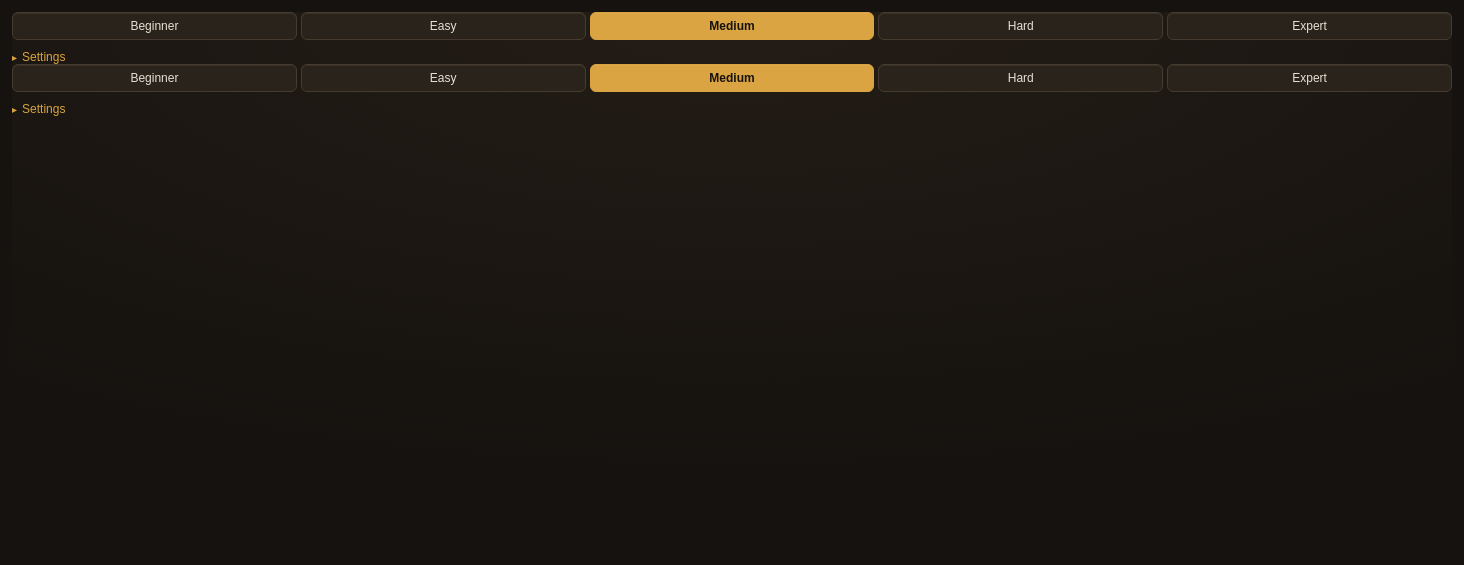
Test: DifficultyControl › scopes the labels to one instance, so two panels cannot cross-wire
Click the 1st button "▸ Settings" at (39, 57), box [12, 50, 65, 64]
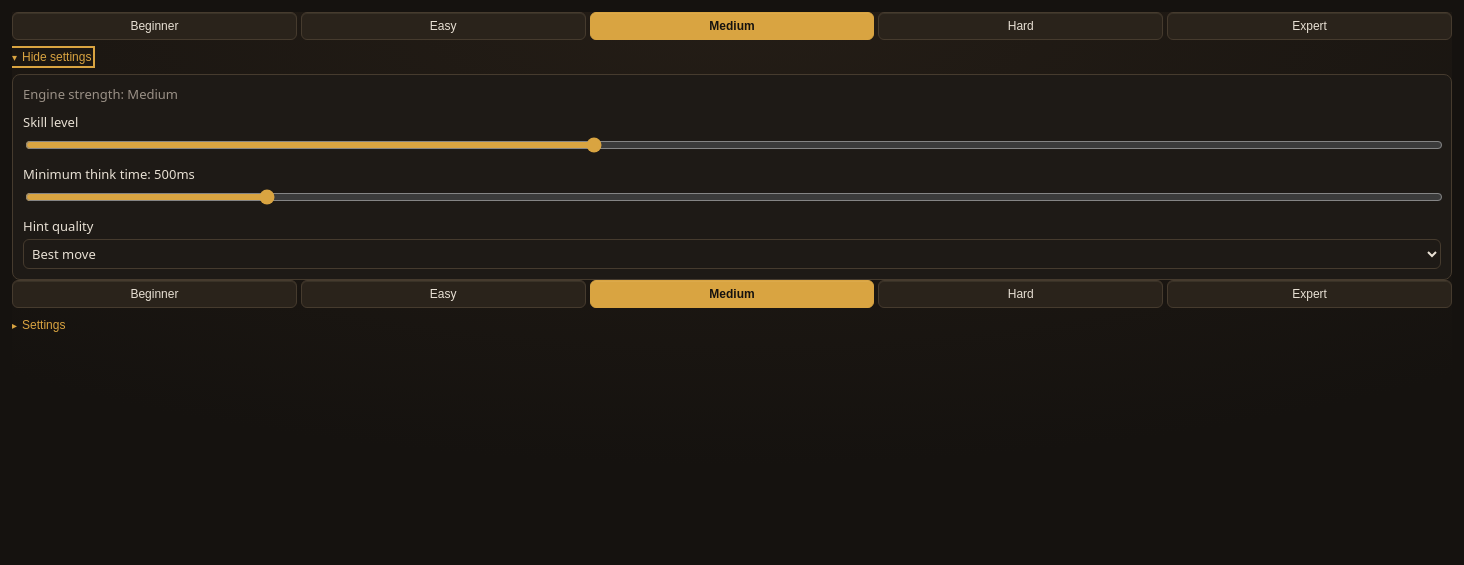
Click the button "▸ Settings" at (39, 325), box [12, 318, 65, 332]
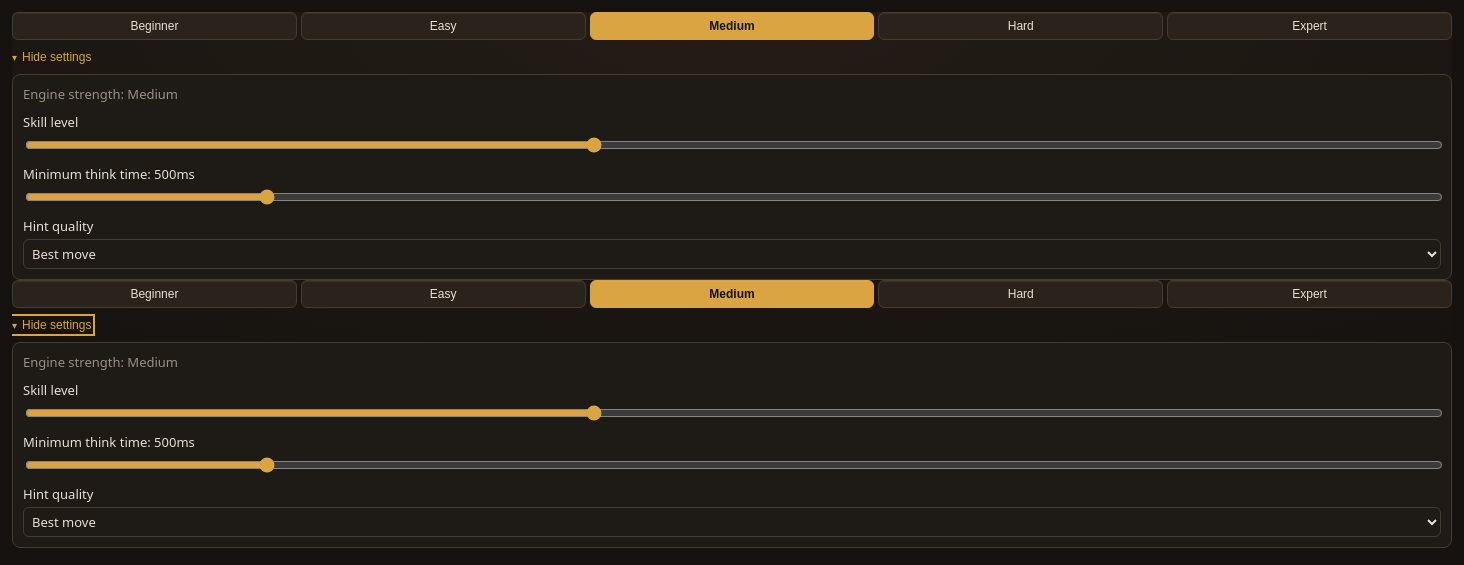
Check: the number of sliders labelled "Skill level" is 2, box [25, 137, 1443, 153]; [25, 405, 1443, 421]
